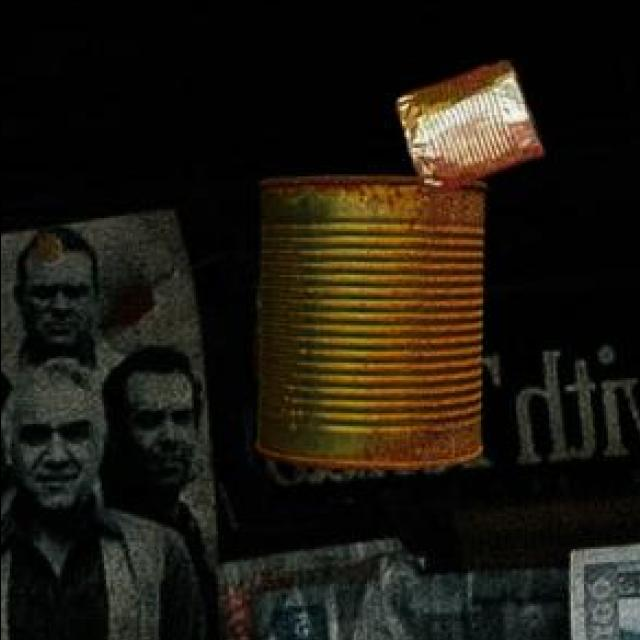logam: (258, 172, 490, 466), (400, 58, 545, 187)
